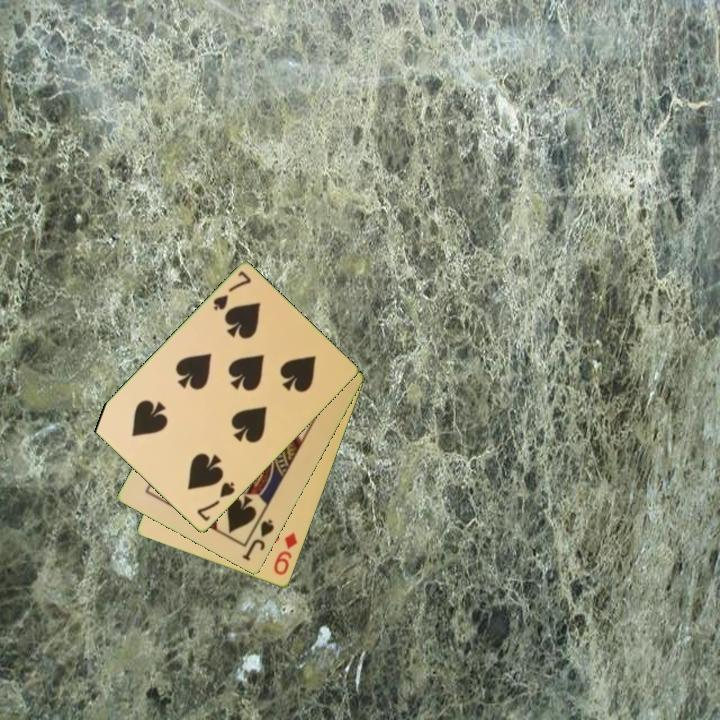7s: (209, 268, 254, 314), (193, 479, 238, 524)
9d: (270, 529, 301, 579)
Js: (239, 516, 277, 564)
